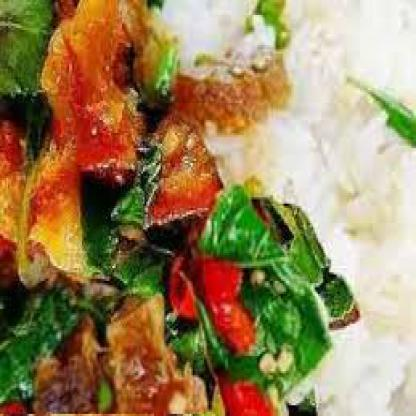Basil Rice: (1, 4, 414, 414)
